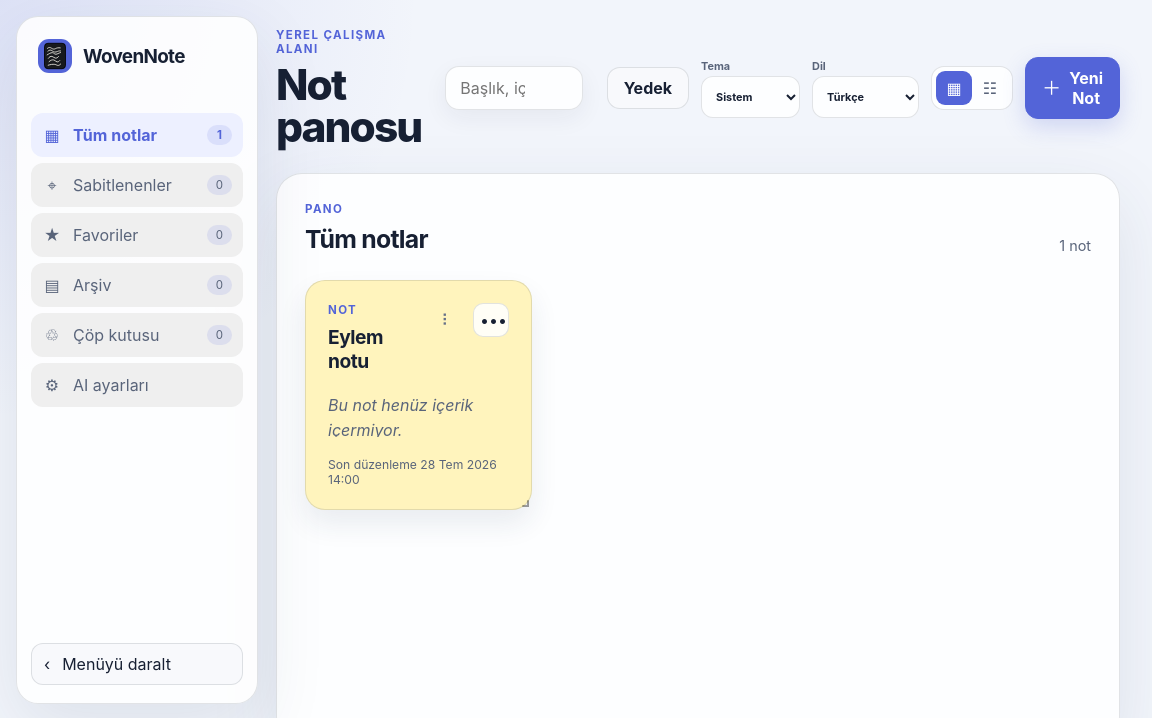
Test case: App note board › offers explicit accessible actions for a completed AI response
Expected: the heading "Eylem notu" is shown, [328,325,383,373]
What coordinates should you click on to do the following:
click the button named "Eylem notu notunu aç"
I would click on:
 (418, 395)
Its box is [306,281,531,509].
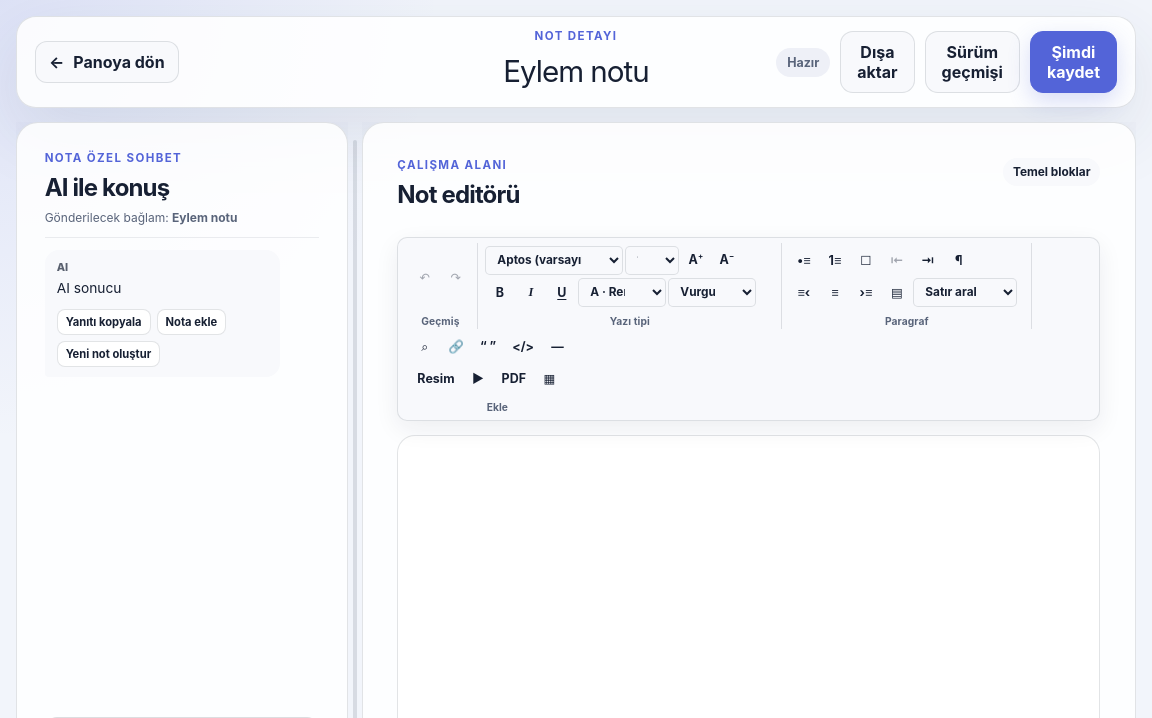
Expected: the text "AI sonucu" is shown, [57,280,121,296]
What coordinates should you click on to do the following:
click the button "Yanıtı kopyala"
I would click on:
 (104, 322)
Its box is [57,309,150,335].
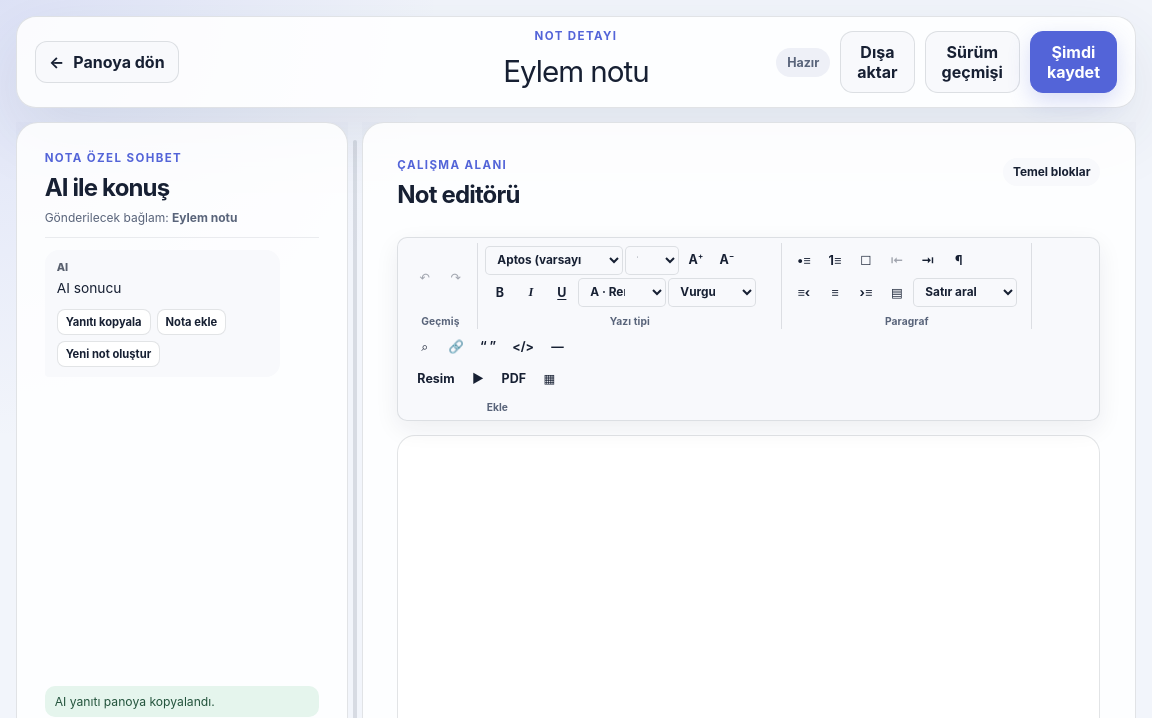
Expected: the message shows "panoya kopyalandı", [55,694,215,710]
What coordinates should you click on to do the following:
click the button "Nota ekle"
I would click on:
 (191, 322)
Its box is [157,309,226,335].
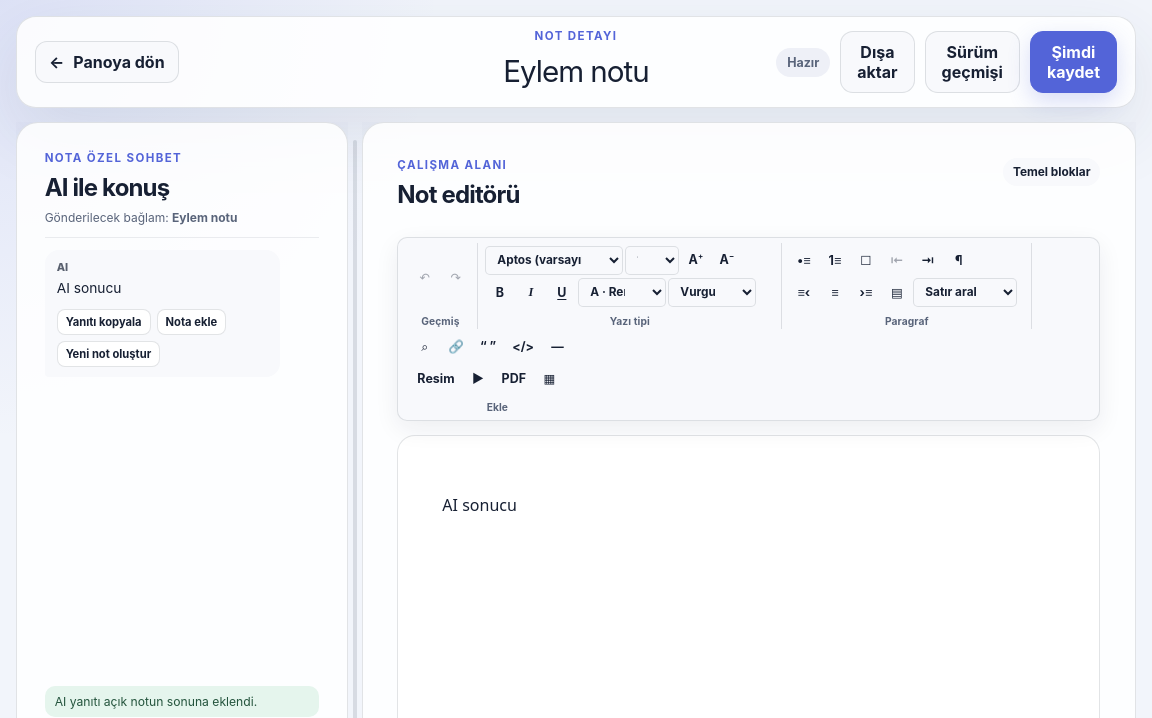
What coordinates should you click on to do the following:
click the button "Yeni not oluştur"
I would click on:
 (108, 354)
Its box is [57,341,160,367].
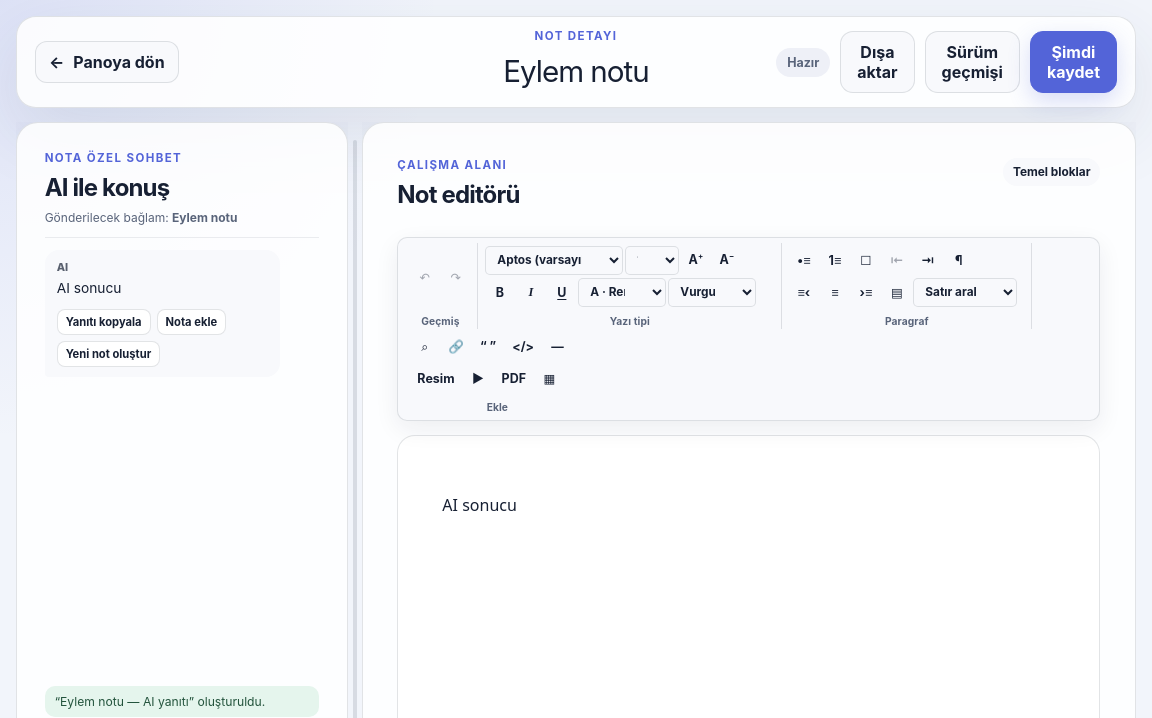
Expected: the message shows "Eylem notu — AI yanıtı", [55,694,265,710]
